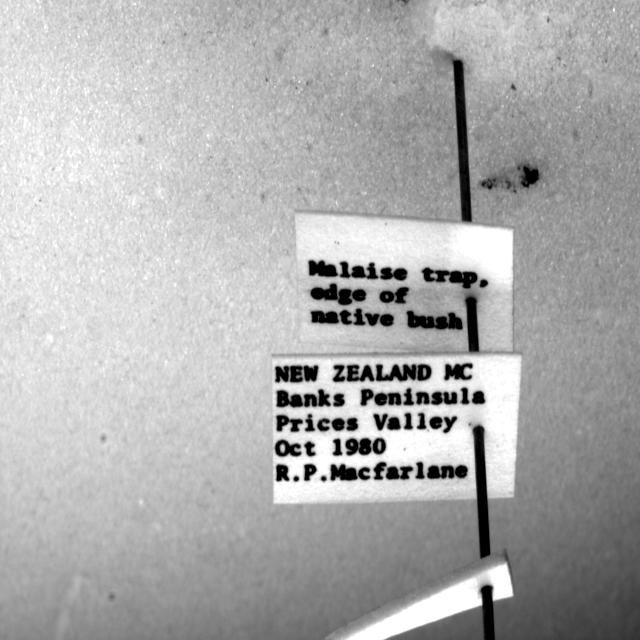typed_label: (272, 352, 521, 504), (295, 212, 514, 352)
